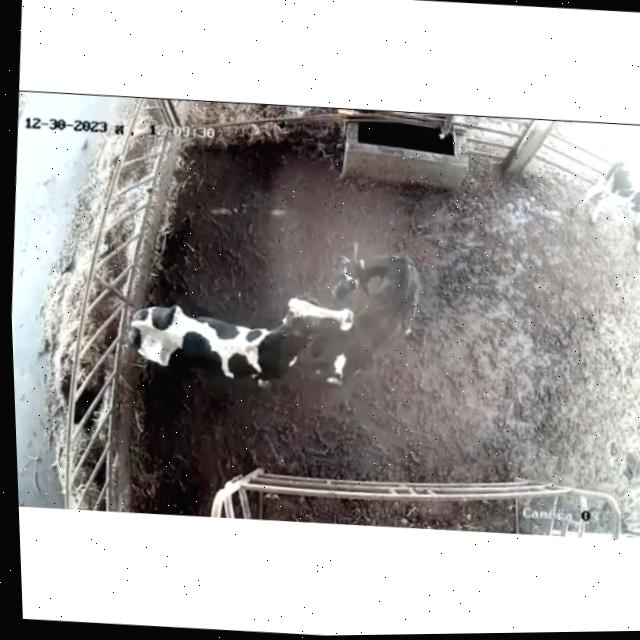propping: (267, 285, 383, 367)
